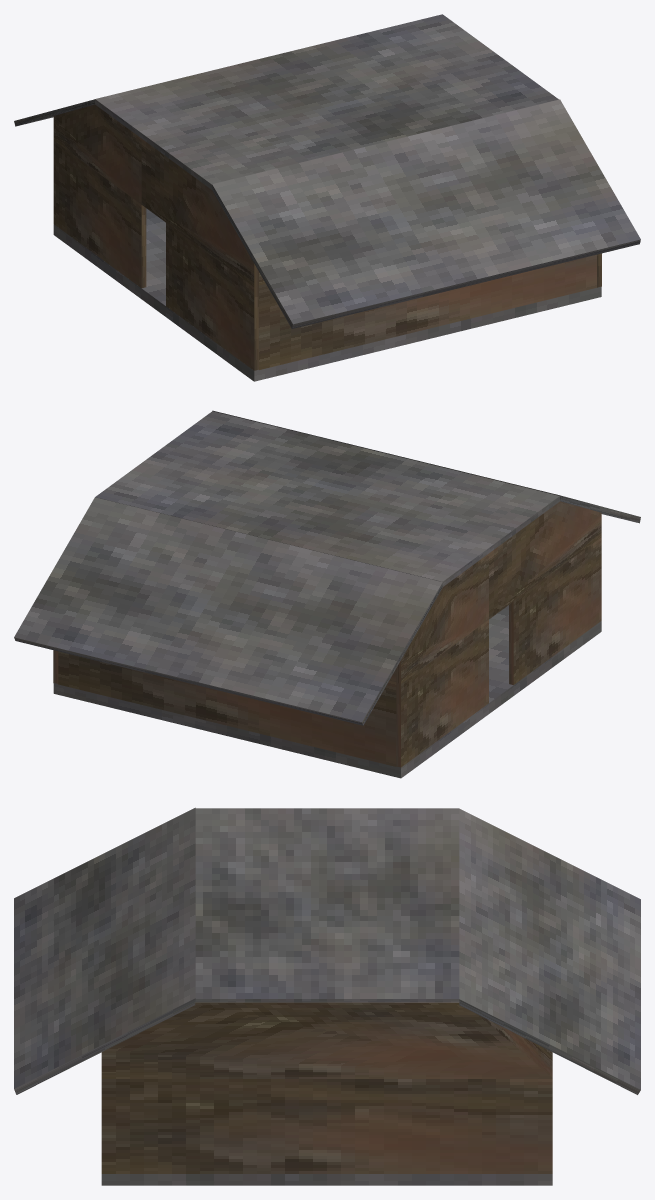
Rendered from house.glb.
3 views of the same model, one above another, from view 1: azimuth 30°, elevation 25°; view 2: azimuth 150°, elevation 25°; view 3: azimuth 270°, elevation 25° (orthographic). The views are drawn at different scales.
Visible parts, largest first — view 1: Cube.006, Cube.003, Cube.005, Cube; view 2: Cube.006, Cube.003, Cube.004, Cube; view 3: Cube.006, Cube.001, Cube.
Boxes of the visible parts, <box> form: Cube.006: <box>14,14,640,328</box>; Cube.003: <box>53,104,258,370</box>; Cube.005: <box>259,254,596,369</box>; Cube: <box>53,208,601,381</box>; Cube.006: <box>14,410,640,725</box>; Cube.003: <box>396,501,601,767</box>; Cube.004: <box>58,651,396,766</box>; Cube: <box>53,605,601,778</box>; Cube.006: <box>14,807,640,1094</box>; Cube.001: <box>101,1002,552,1173</box>; Cube: <box>101,1174,552,1185</box>.
Bounding box in the file's own units: 20.02 × 9.18 × 27.82.
2 materials, 2 textured.
